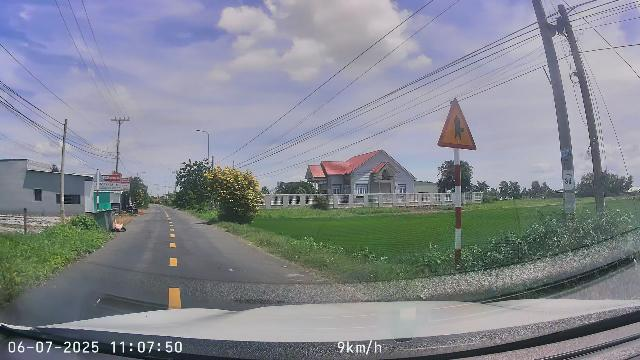207-giao-nhau-voi-duong-khong-uu-tien: (438, 98, 477, 150)
